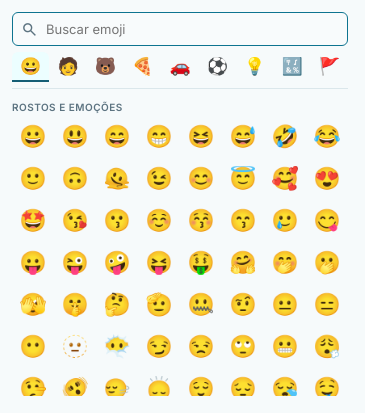
it: EmojiPicker › finds emoji by name and by keyword
Type keys "foguete"
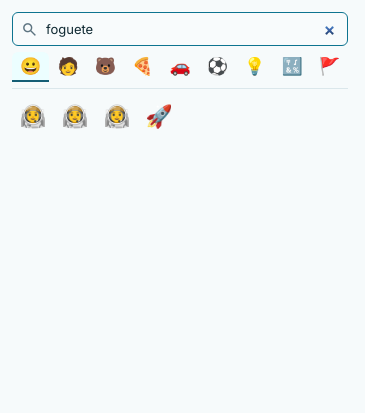
Click the button named "foguete": (159, 116) 138,95 -> 180,137
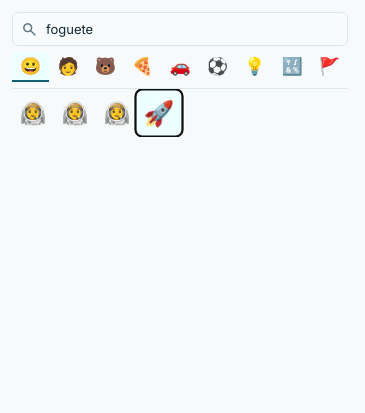
Clear the search field named "Buscar emoji": (192, 29) 44,13 -> 339,45
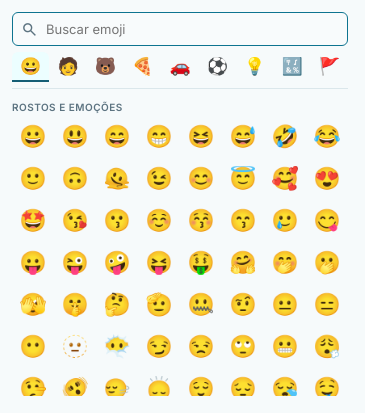
Type keys "felino"
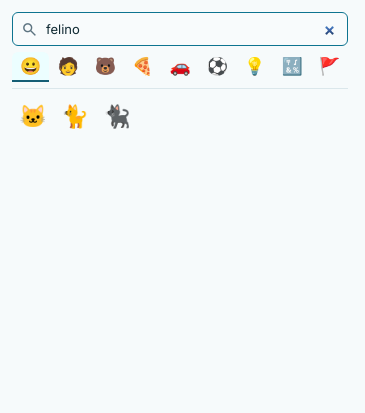
Expected: the button named "rosto de gato" is shown, 12,95 -> 54,137
